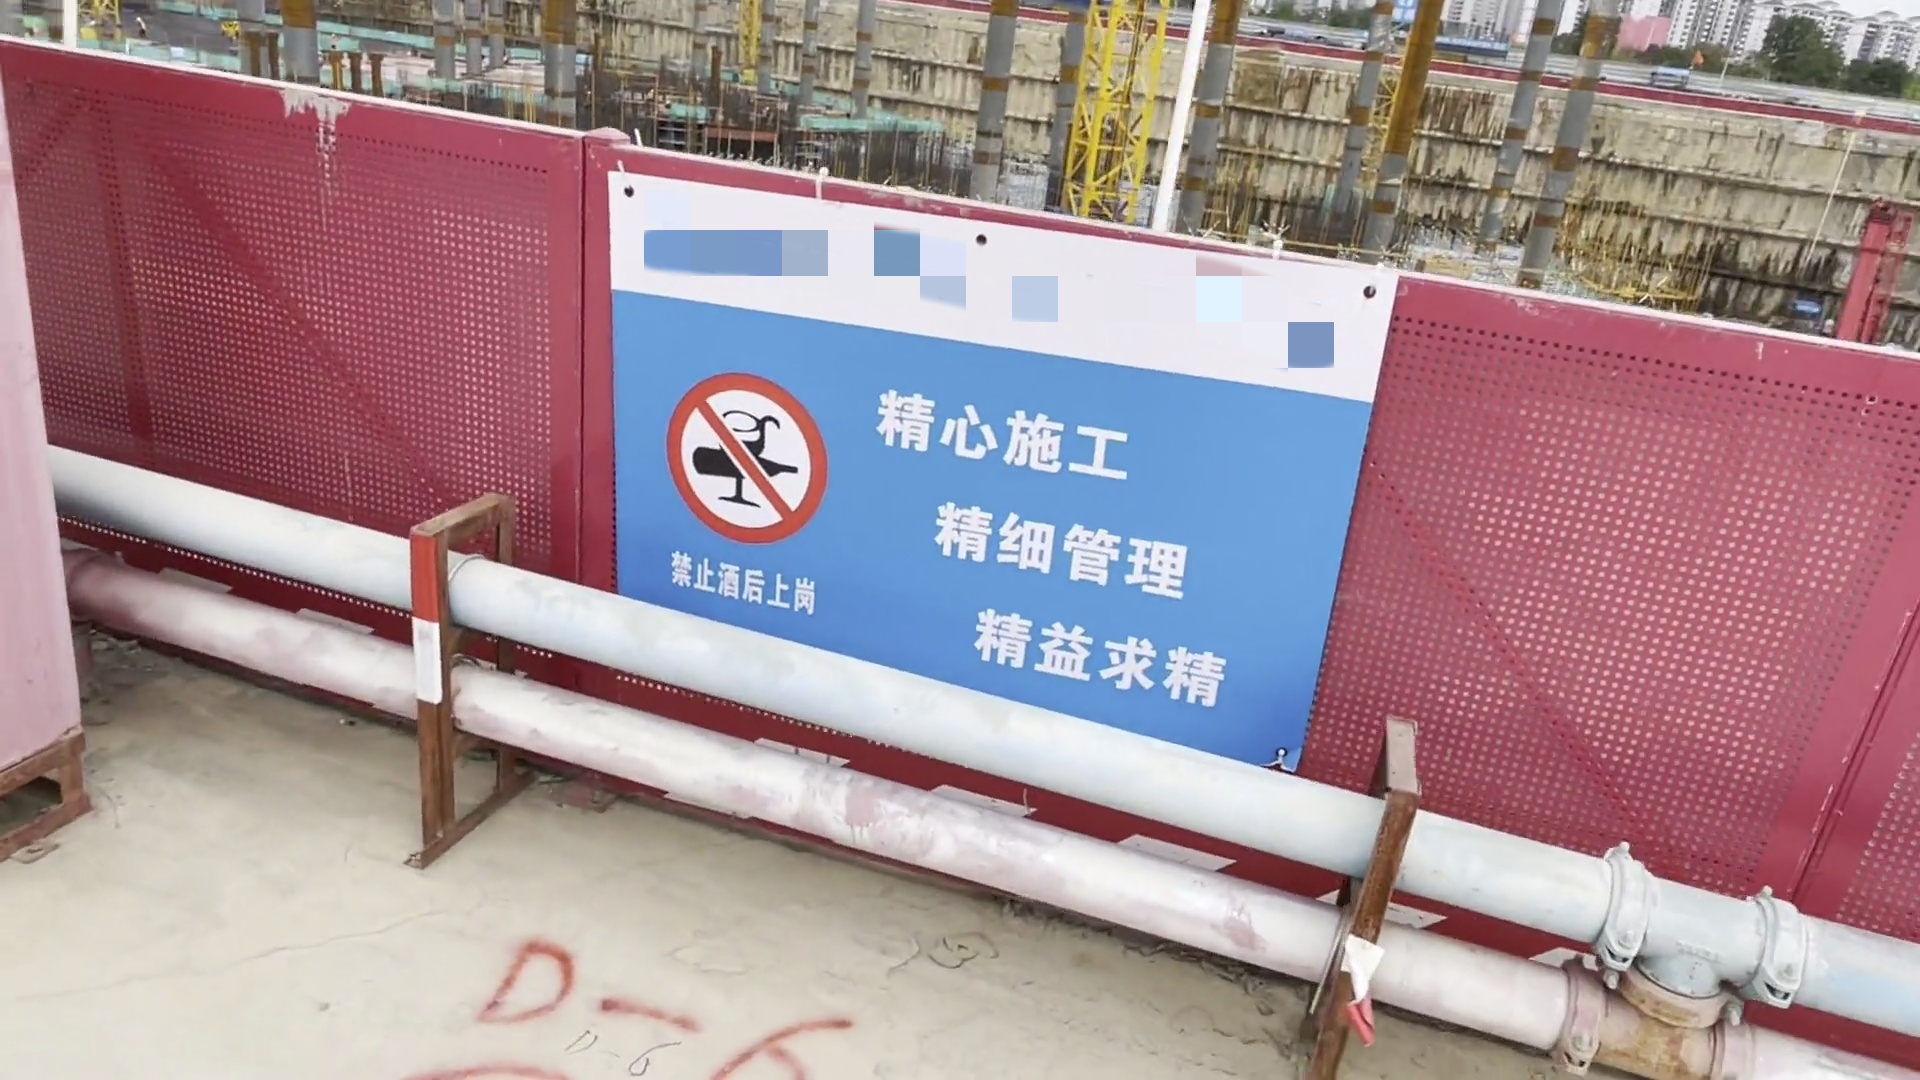slogan: (624, 276, 1332, 738)
